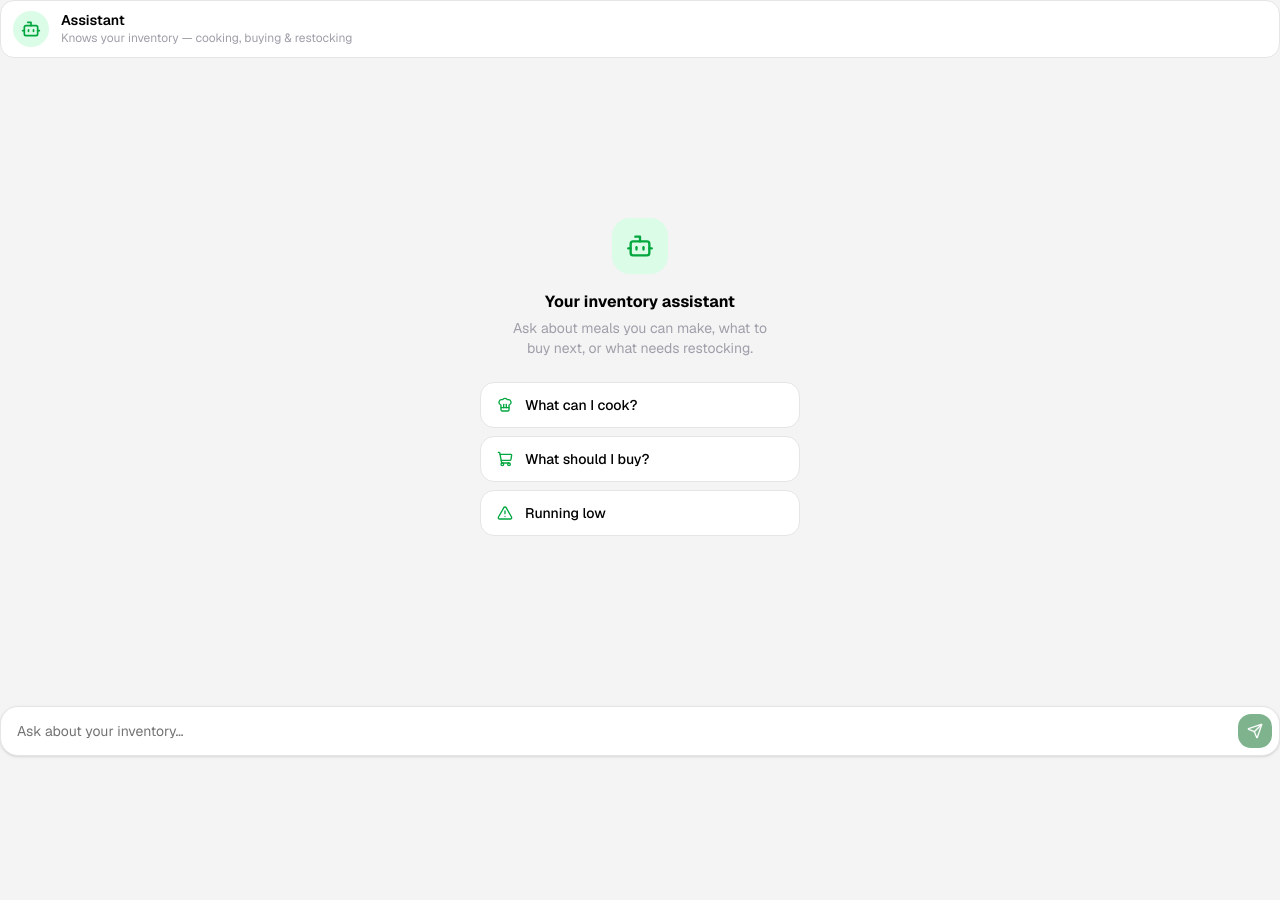
Scenario: AssistantClient › Sending a question › shows the user bubble and streams the assistant reply
The width and height of the screenshot is (1280, 900).
In the text box named "ask the ai assistant": x=618, y=731 left=7, top=713, right=1229, bottom=749, type "What can I cook?"
Then press Enter
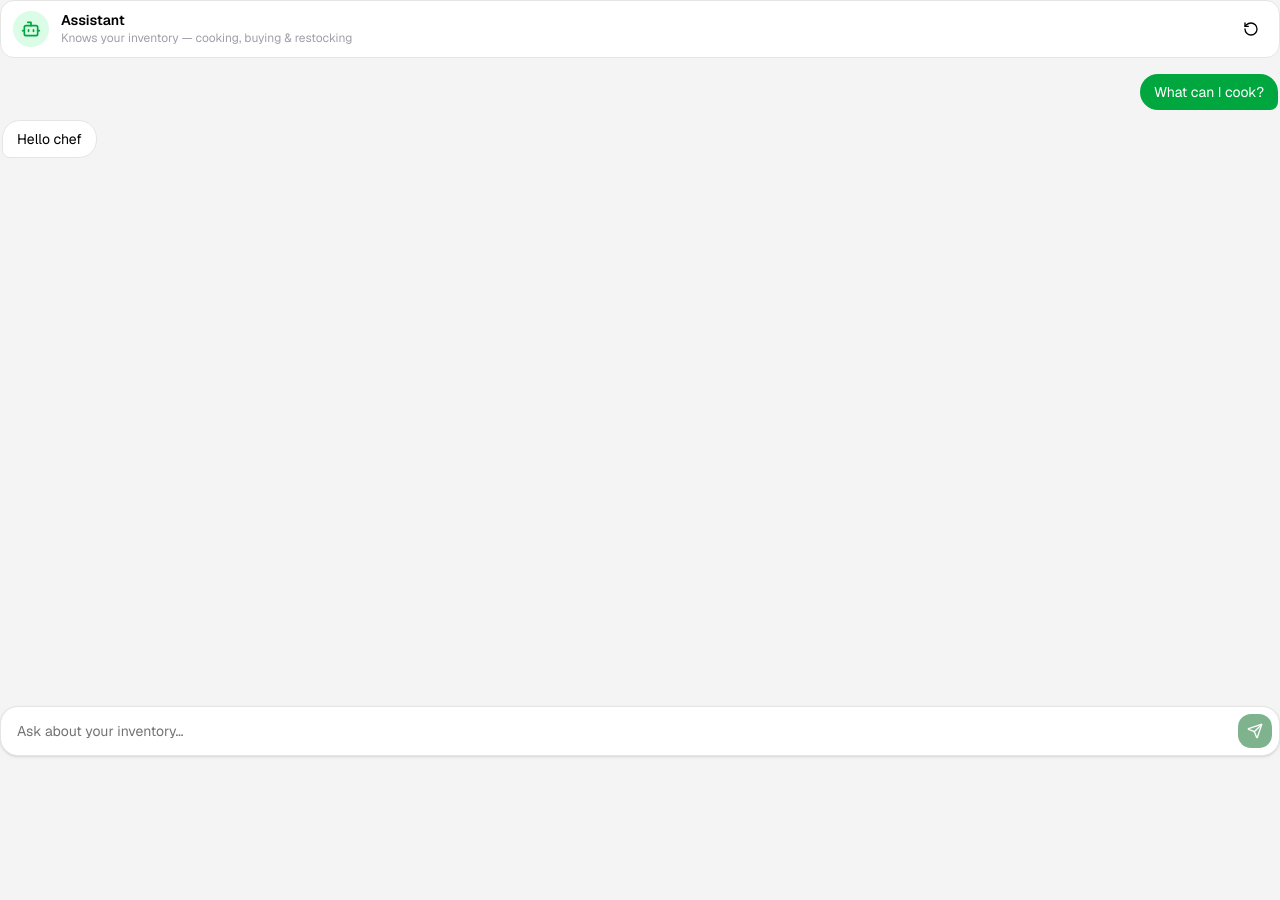
Now the text "Hello chef" is shown, box left=2, top=120, right=97, bottom=158
